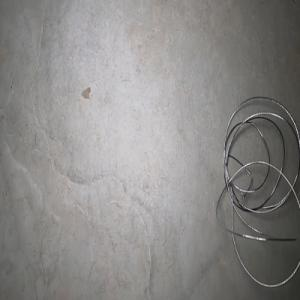Wire: (215, 96, 300, 288)
